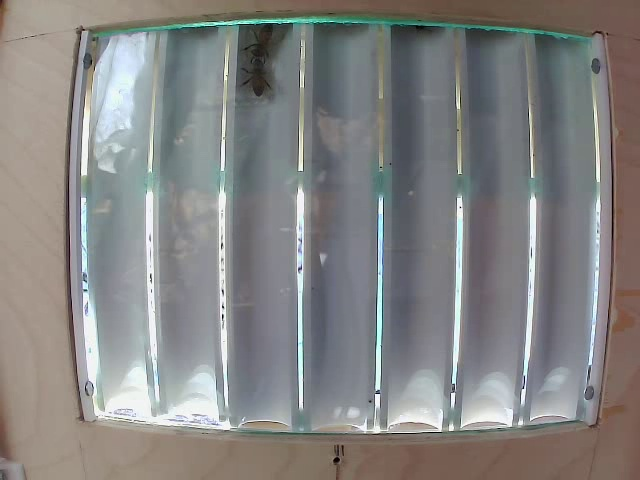bee: (241, 54, 271, 104), (247, 17, 279, 54)
